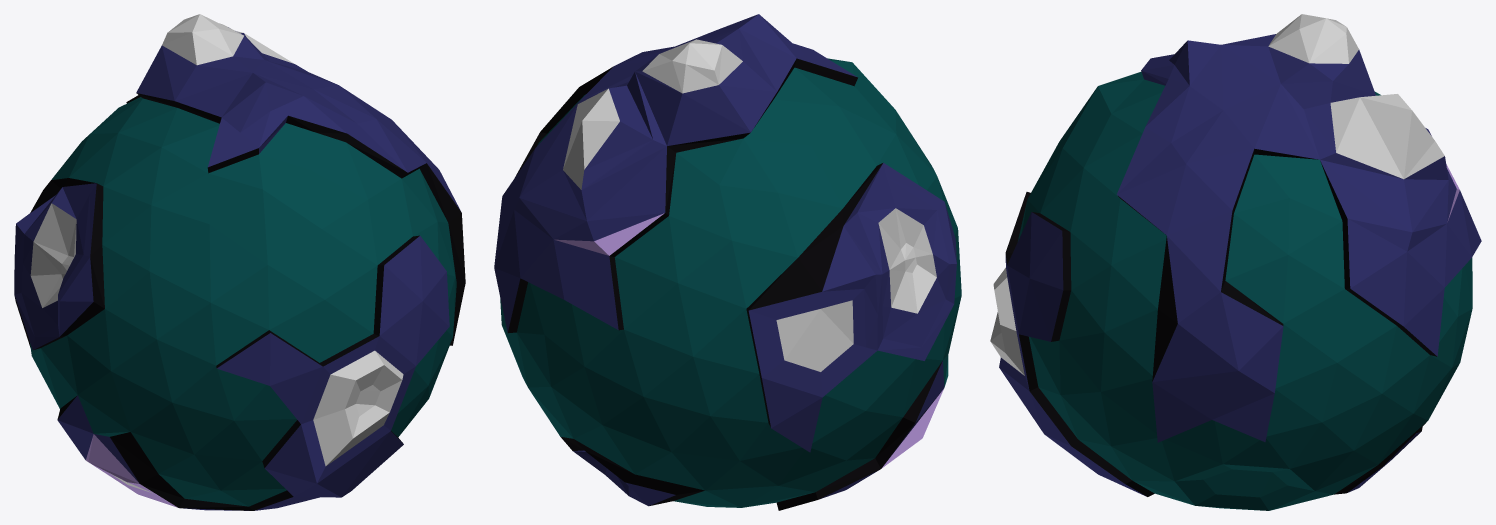
File: watchC_planet02.dae
The picture shows the model from 3 angles, left to right: view 1: azimuth 30°, elevation 25°; view 2: azimuth 150°, elevation 25°; view 3: azimuth 270°, elevation 25°; orthographic projection. The views are drawn at different scales.
Visible parts, largest first — view 1: planet03; view 2: planet03; view 3: planet03.
Part boxes in pixels (left/top/right/bottom): planet03: left=14, top=14, right=465, bottom=510; planet03: left=494, top=14, right=961, bottom=510; planet03: left=990, top=14, right=1481, bottom=510.
Size of the model in its own units: 2.12 by 2.25 by 2.12.
